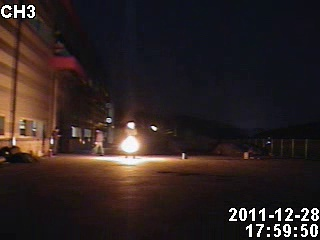fire: (117, 132, 142, 154)
